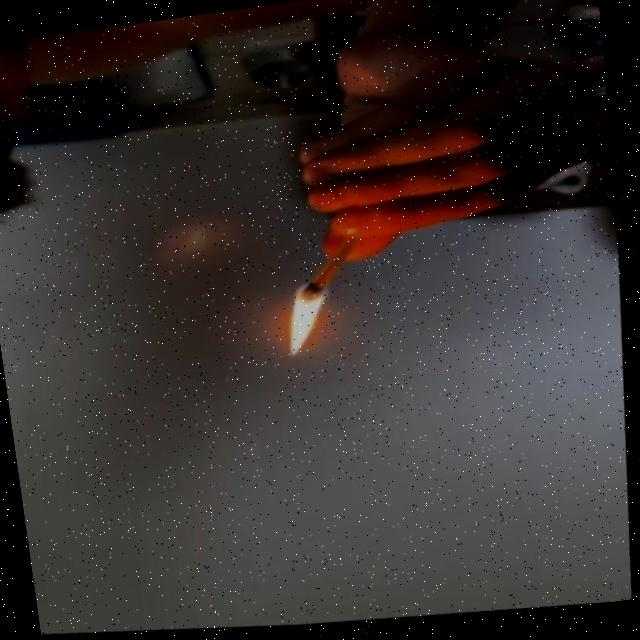fire: (277, 274, 339, 359)
